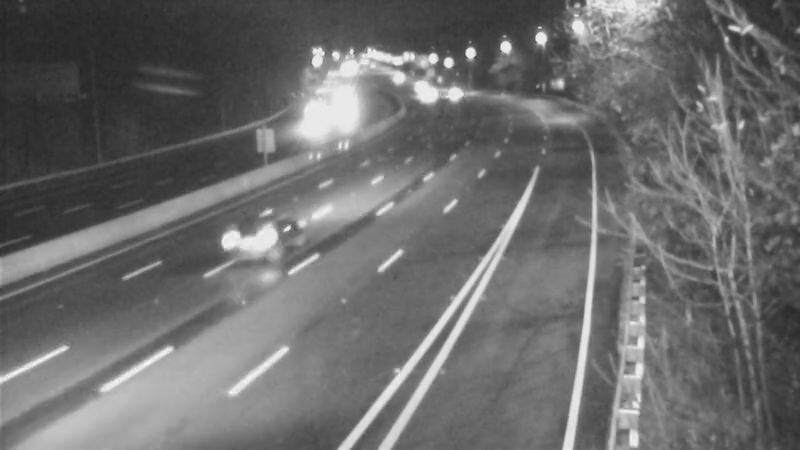vehicle: (187, 189, 267, 269), (369, 50, 419, 100), (390, 62, 440, 112), (425, 68, 475, 118), (400, 69, 450, 119), (280, 99, 330, 149)
